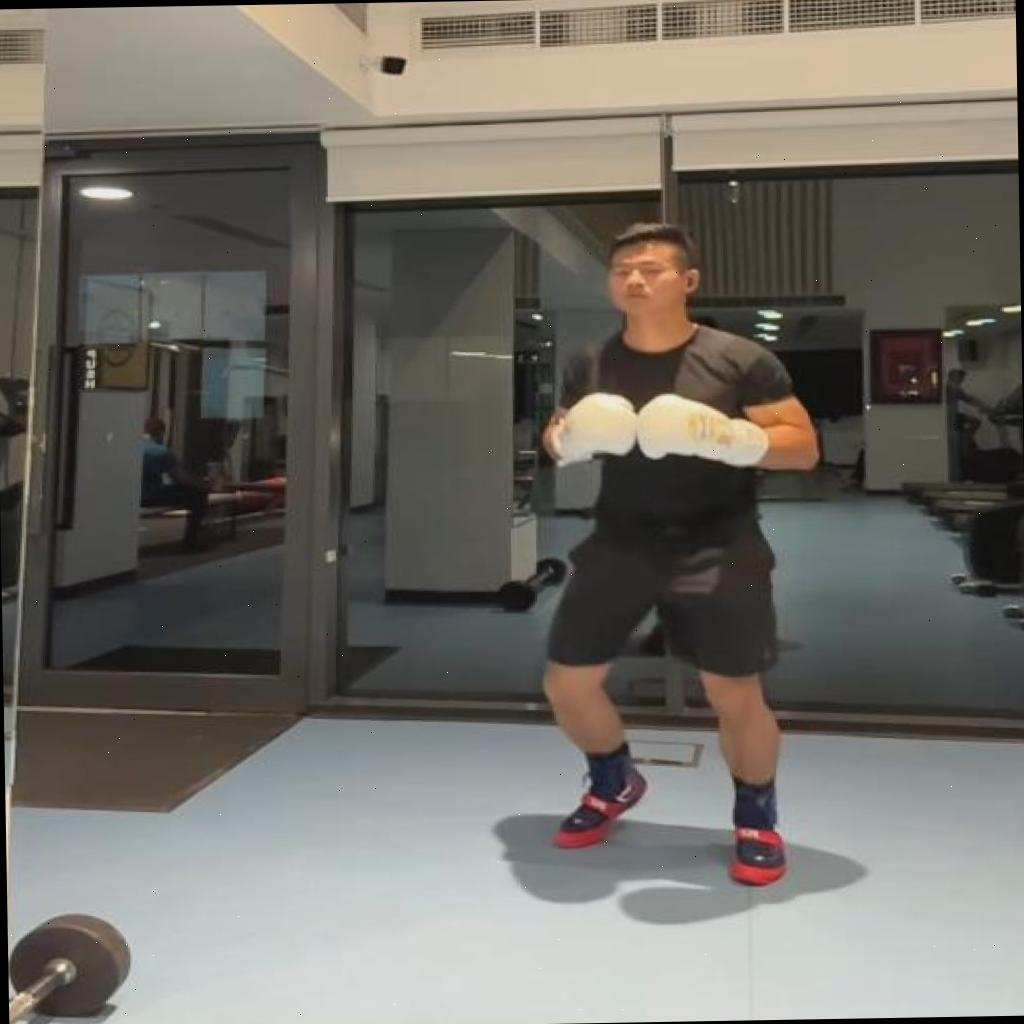no punch: (532, 223, 830, 896)
